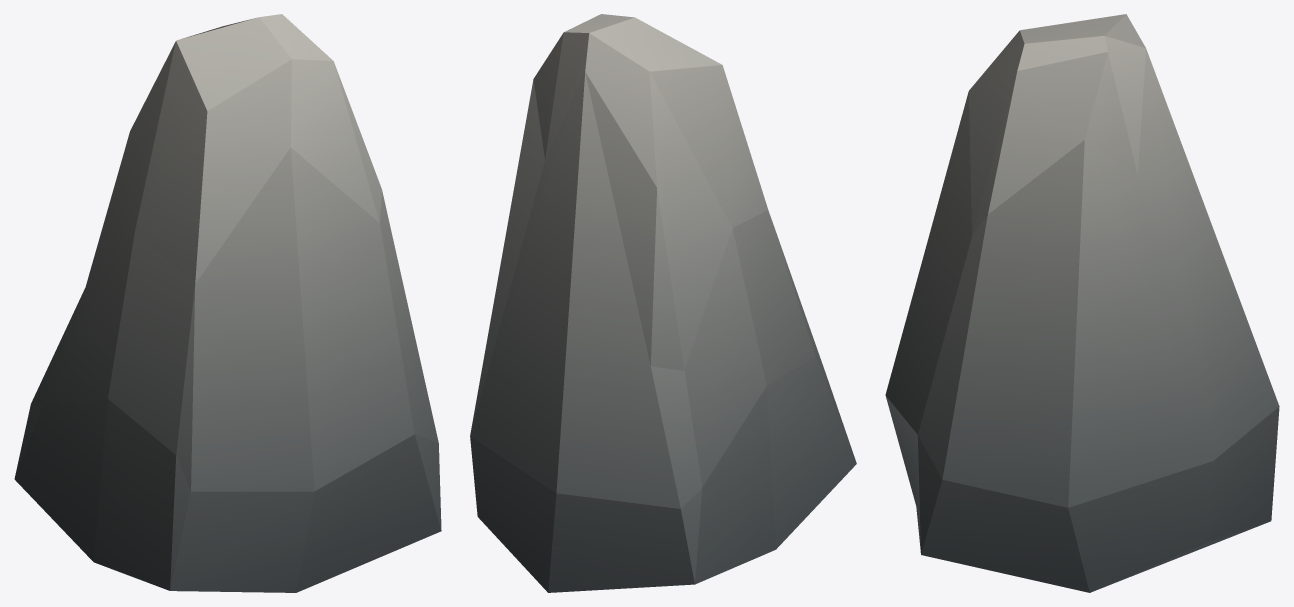
Rendered from Rock_Small_C.fbx.
3 renders of one model, left to right at view 1: azimuth 30°, elevation 25°; view 2: azimuth 150°, elevation 25°; view 3: azimuth 270°, elevation 25°, orthographic. The views are drawn at different scales.
Visible parts, largest first — view 1: Rock_Small_C; view 2: Rock_Small_C; view 3: Rock_Small_C.
Part boxes in pixels (x1,y1,x2,y2): Rock_Small_C: (14,14,441,592); Rock_Small_C: (470,14,856,592); Rock_Small_C: (885,14,1279,592).
Bounding box in the file's own units: 64.2 × 106 × 71.16.
